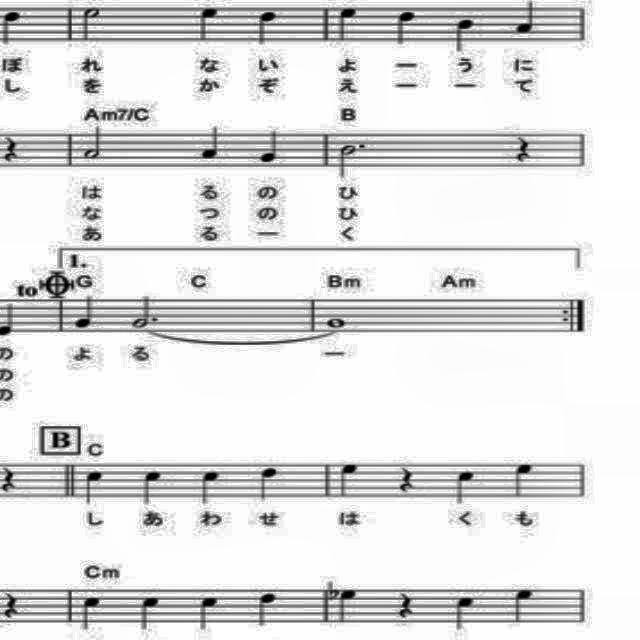Full-note: (320, 311, 352, 334)
Half-dot: (334, 134, 370, 182), (126, 290, 166, 330)
Half-note: (82, 124, 110, 166), (80, 3, 104, 49)
Quarter-note: (197, 118, 231, 166), (253, 126, 289, 170), (506, 582, 542, 626), (333, 454, 362, 508), (504, 456, 536, 504), (74, 589, 106, 635), (337, 578, 365, 630), (388, 8, 424, 48), (257, 457, 285, 508), (192, 2, 224, 46), (450, 590, 482, 634), (196, 593, 230, 631), (80, 465, 108, 511), (68, 292, 100, 332), (333, 5, 363, 47), (197, 468, 227, 510), (137, 589, 165, 633), (453, 467, 482, 508), (252, 5, 280, 47), (254, 589, 282, 631), (452, 16, 480, 56), (514, 0, 542, 40), (140, 468, 167, 508), (0, 6, 24, 49)
Quarter-rest: (507, 130, 545, 173), (0, 127, 28, 169), (0, 589, 28, 625), (396, 459, 419, 499), (396, 586, 418, 624), (0, 460, 20, 500)
